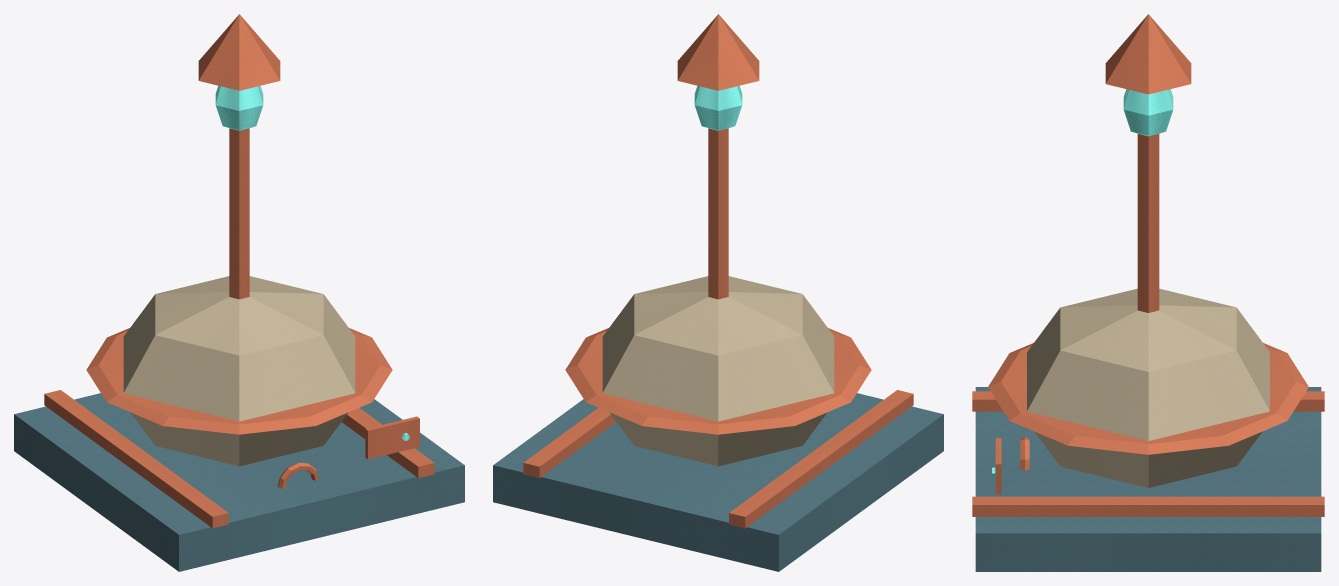
File: atlas100-s044-a01.lod1.glb
The picture shows the model from 3 angles, left to right: view 1: azimuth 30°, elevation 25°; view 2: azimuth 150°, elevation 25°; view 3: azimuth 270°, elevation 25°; orthographic projection. The views are drawn at different scales.
Visible parts, largest first — view 1: atlas100-s044-a01:part-000, atlas100-s044-a01:part-003, atlas100-s044-a01:part-004, atlas100-s044-a01:part-001, atlas100-s044-a01:part-008, atlas100-s044-a01:part-005, atlas100-s044-a01:part-007, atlas100-s044-a01:part-010, atlas100-s044-a01:part-002; view 2: atlas100-s044-a01:part-000, atlas100-s044-a01:part-003, atlas100-s044-a01:part-004, atlas100-s044-a01:part-001, atlas100-s044-a01:part-008, atlas100-s044-a01:part-005, atlas100-s044-a01:part-002, atlas100-s044-a01:part-007; view 3: atlas100-s044-a01:part-003, atlas100-s044-a01:part-000, atlas100-s044-a01:part-004, atlas100-s044-a01:part-002, atlas100-s044-a01:part-008, atlas100-s044-a01:part-005, atlas100-s044-a01:part-007, atlas100-s044-a01:part-001.
Boxes of the visible parts, x1,y1,x2,y2 form: atlas100-s044-a01:part-000: [14, 393, 464, 571]; atlas100-s044-a01:part-003: [123, 276, 355, 466]; atlas100-s044-a01:part-004: [86, 328, 392, 434]; atlas100-s044-a01:part-001: [44, 390, 228, 528]; atlas100-s044-a01:part-008: [198, 14, 280, 90]; atlas100-s044-a01:part-005: [229, 128, 249, 299]; atlas100-s044-a01:part-007: [215, 85, 263, 130]; atlas100-s044-a01:part-010: [365, 416, 419, 459]; atlas100-s044-a01:part-002: [341, 407, 434, 477]; atlas100-s044-a01:part-000: [493, 393, 943, 571]; atlas100-s044-a01:part-003: [602, 276, 834, 466]; atlas100-s044-a01:part-004: [565, 328, 871, 434]; atlas100-s044-a01:part-001: [729, 390, 913, 528]; atlas100-s044-a01:part-008: [677, 14, 759, 90]; atlas100-s044-a01:part-005: [708, 128, 728, 299]; atlas100-s044-a01:part-002: [523, 407, 616, 477]; atlas100-s044-a01:part-007: [694, 85, 742, 130]; atlas100-s044-a01:part-003: [1027, 288, 1269, 487]; atlas100-s044-a01:part-000: [975, 387, 1321, 571]; atlas100-s044-a01:part-004: [988, 343, 1308, 454]; atlas100-s044-a01:part-002: [972, 496, 1324, 516]; atlas100-s044-a01:part-008: [1105, 14, 1191, 94]; atlas100-s044-a01:part-005: [1137, 134, 1159, 312]; atlas100-s044-a01:part-007: [1123, 89, 1173, 136]; atlas100-s044-a01:part-001: [972, 391, 1324, 411].
Bounding box in the file's own units: 2.1 × 3.25 × 2.14.
4 materials, 4 textured.
